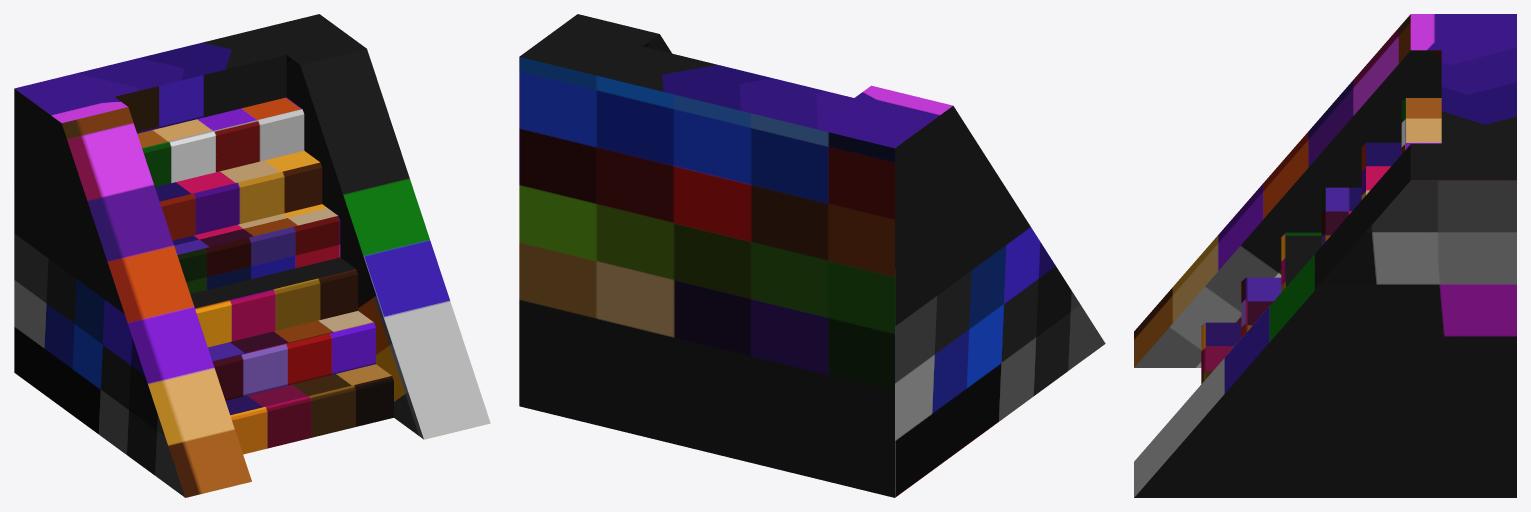
The model's file is Stair_01 1.fbx.
3 renders of one model, left to right at view 1: azimuth 30°, elevation 25°; view 2: azimuth 150°, elevation 25°; view 3: azimuth 270°, elevation 25°, orthographic. The views are drawn at different scales.
Visible parts, largest first — view 1: Stair_01; view 2: Stair_01; view 3: Stair_01.
Boxes of the visible parts, x1,y1,x2,y2 form: Stair_01: (14, 14, 490, 497); Stair_01: (519, 14, 1105, 497); Stair_01: (1134, 14, 1516, 497).
Size of the model in its own units: 142 by 126 by 138.
